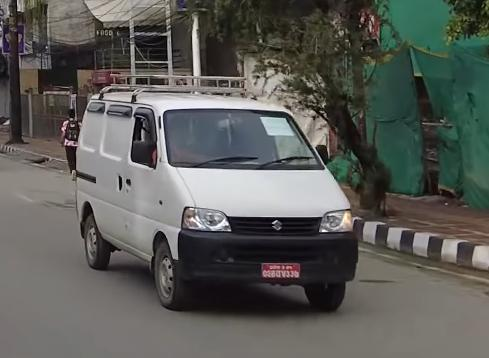van: (58, 65, 365, 316)
